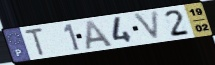1: (61, 22, 82, 52)
2: (163, 9, 191, 38)
4: (110, 15, 136, 45)
A: (85, 19, 116, 51)
T: (23, 27, 46, 57)
V: (131, 9, 162, 43)
